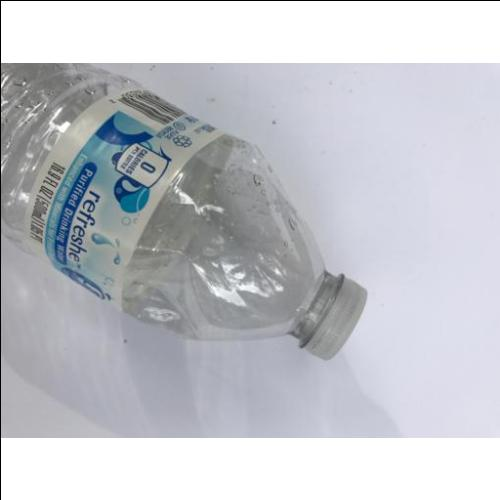plastic: (3, 62, 368, 361)
